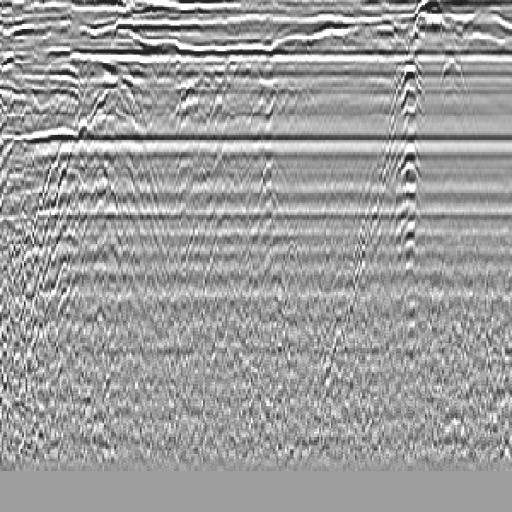metalic: (389, 47, 433, 317)
non-metallic: (426, 40, 482, 106)
